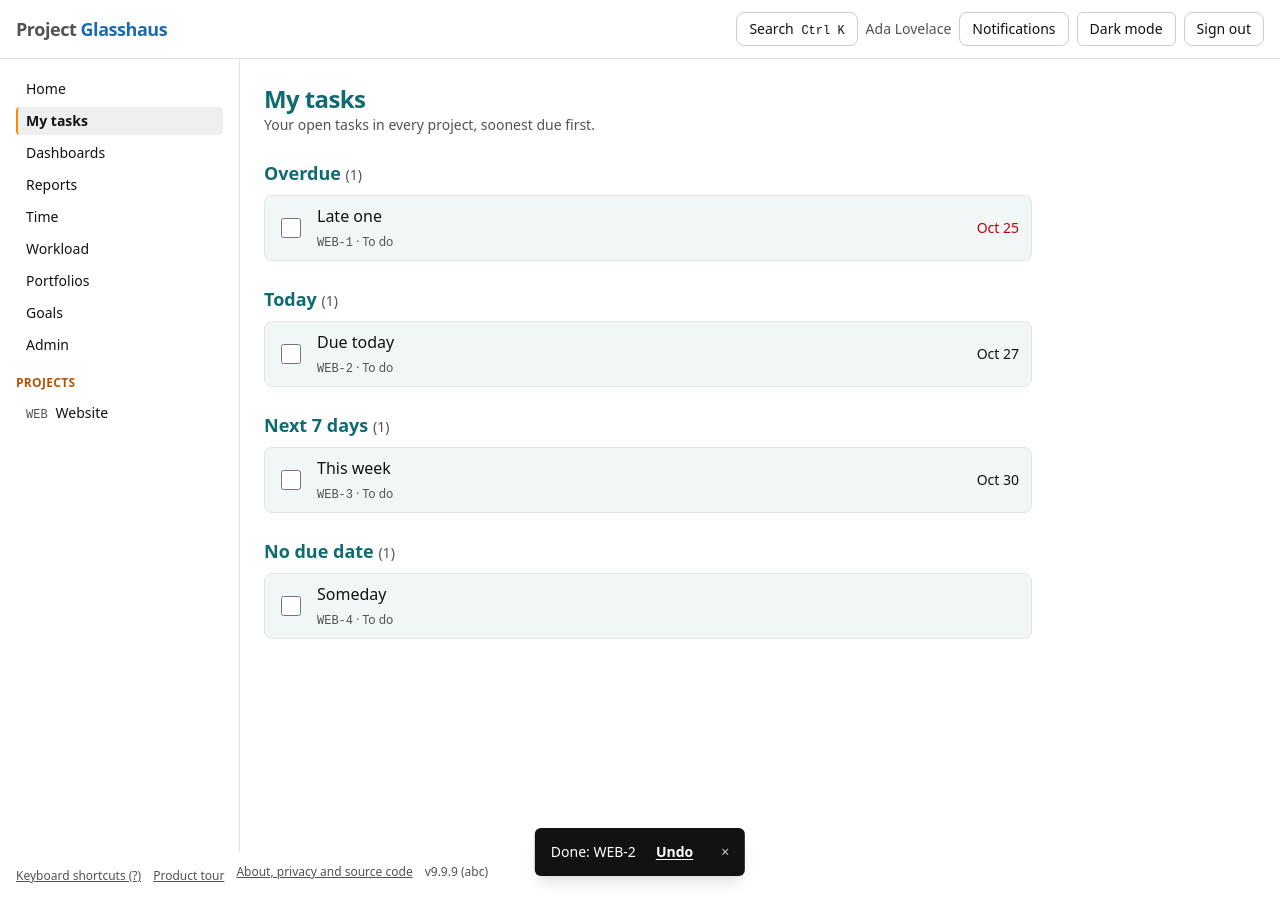
Scenario: my tasks › removes a ticked task at once and brings it back with Undo
Click the checkbox named "Mark WEB-3 done": coordinates (291, 480) [281,470,301,490]
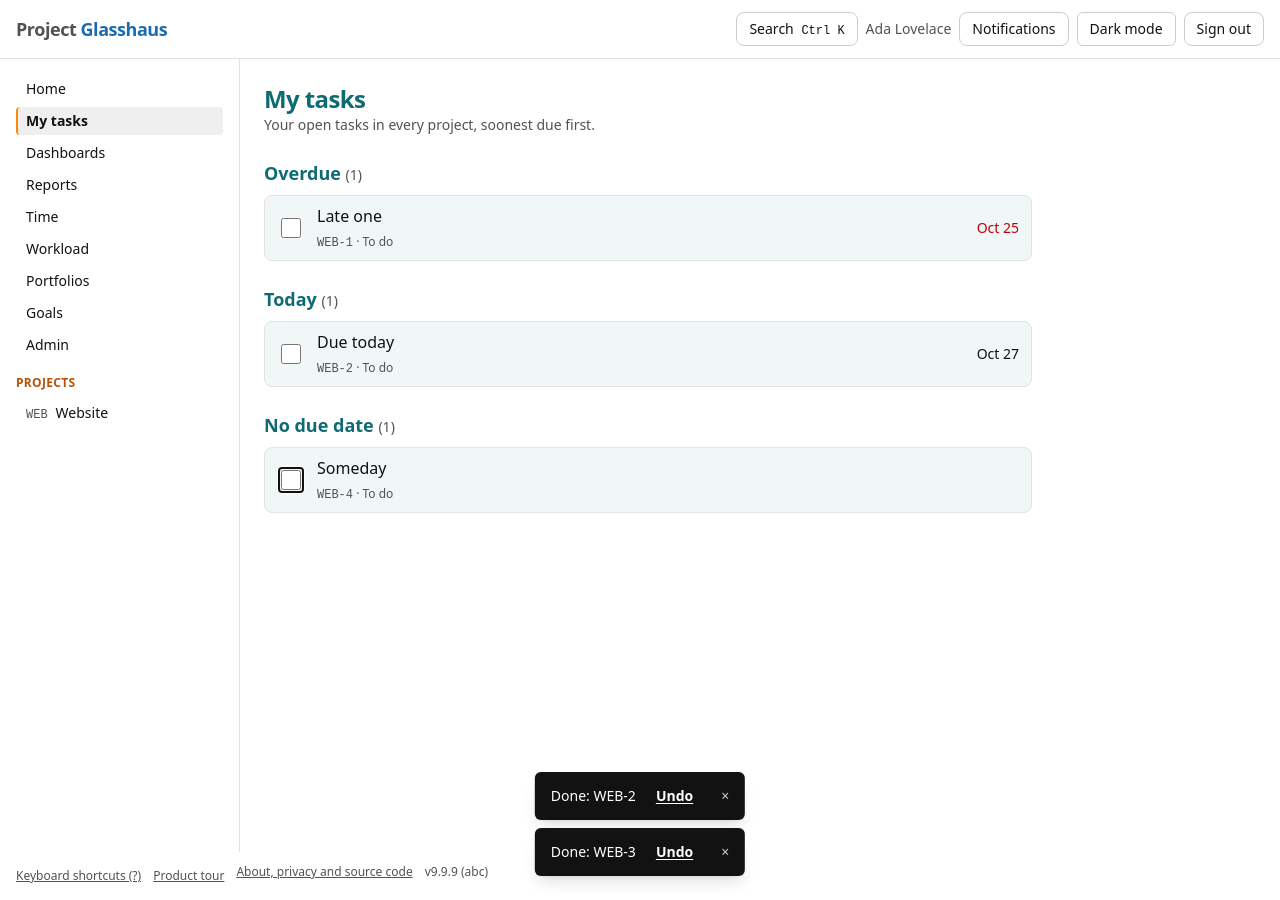
expect the link "This week" is gone: met
// The newest toast's Undo (an earlier test's toast may still be on screen).
Click the button "Undo" next to "Done: WEB-3": coordinates (675, 852) [648,836,701,868]
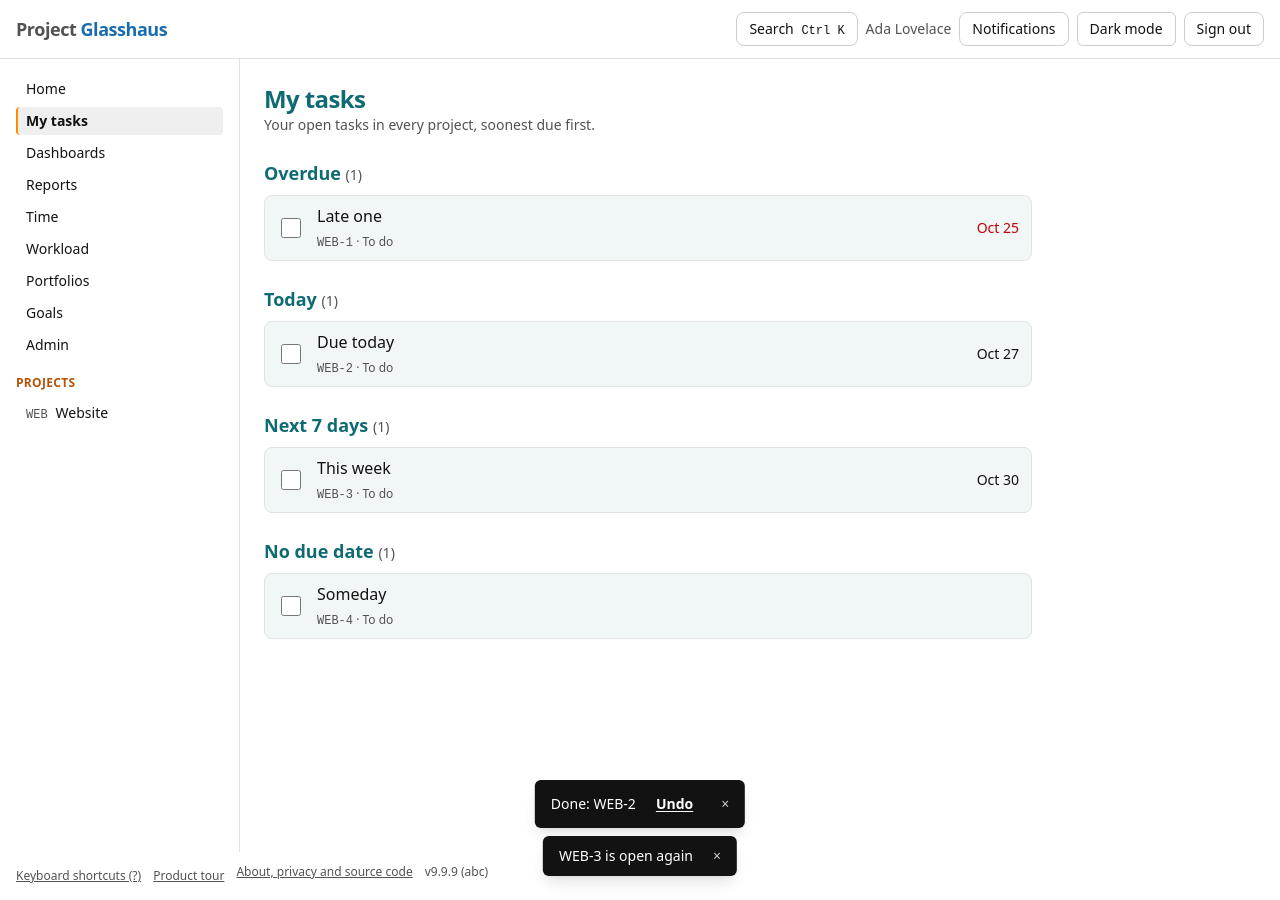
expect the link "This week" is shown: met, box [317,457,391,479]
expect the text "WEB-3 is open again" is shown: met, box [559,846,693,866]
